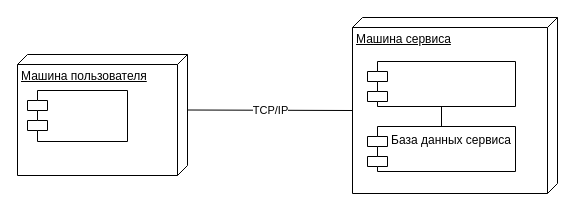
Some shapes in this 575 by 211 pixel diagram are drawn without their labels. Each missing label, with the box of its shape:
Browser: (26, 90, 128, 142)
Веб-сервер сервиса: (366, 60, 516, 106)
